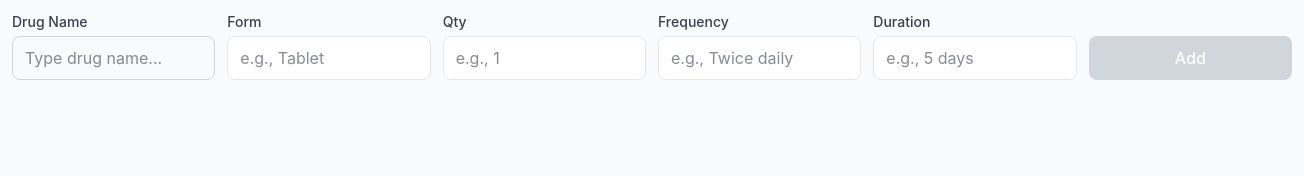
Test case: MedicationEntry keyboard navigation › shows "No drugs found. You can type a custom name." when results empty and not searching
Type "zzz" into the field with placeholder "Type drug name...". click: (114, 58)
box: [12,36,215,80]
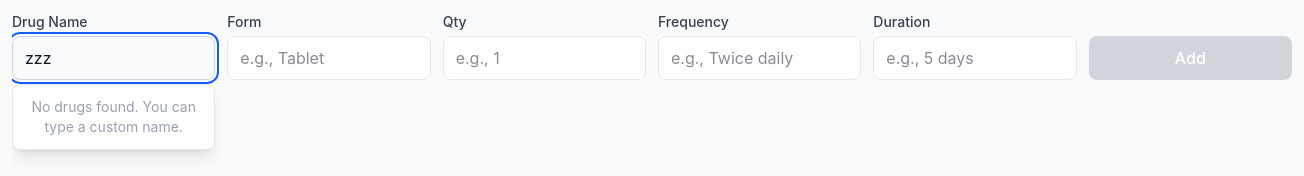
Check: the text "No drugs found. You can type a custom name." is shown, box [31,98,196,135]
